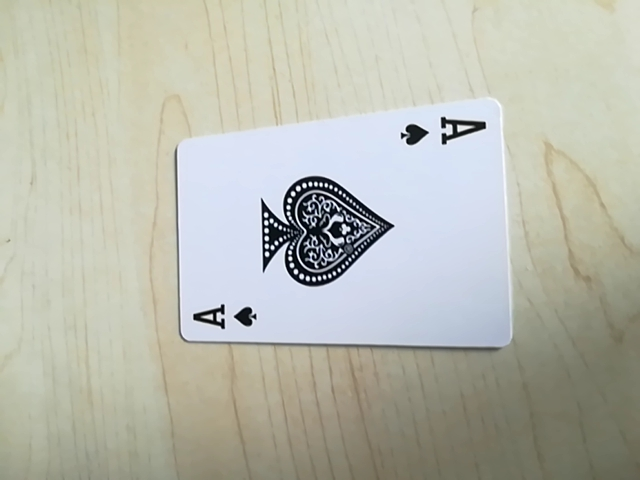ht a: (396, 109, 490, 157), (187, 298, 264, 335)
